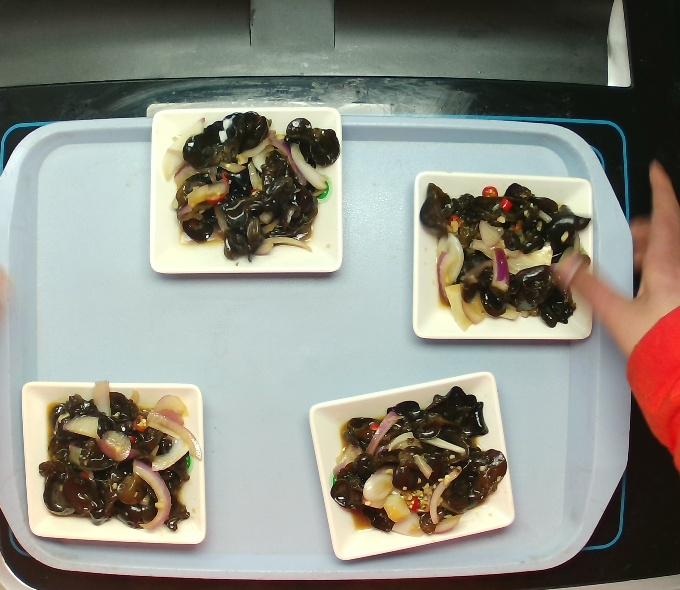wcq-LiangBanMuEr: (21, 383, 212, 537), (414, 171, 594, 327), (331, 383, 501, 539), (168, 111, 333, 264)
